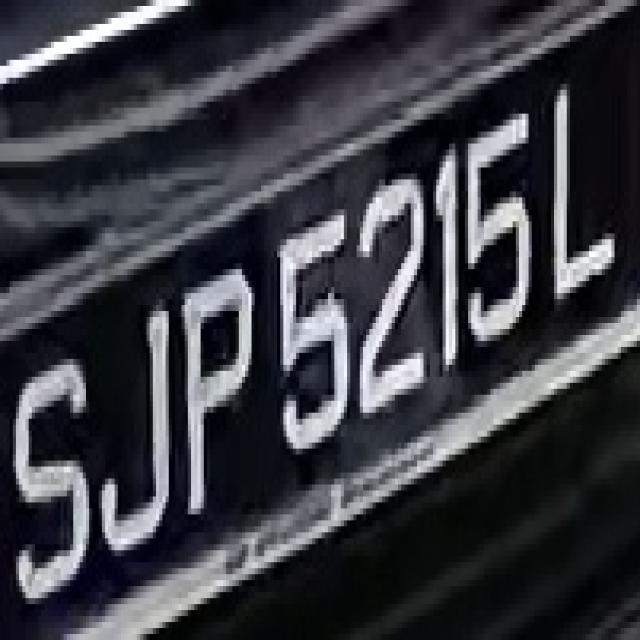1: (430, 120, 471, 382)
2: (353, 174, 430, 460)
5: (268, 216, 356, 467), (455, 102, 535, 377)
J: (86, 293, 185, 562)
L: (541, 72, 618, 311)
P: (166, 269, 261, 532)
S: (10, 323, 96, 610)
